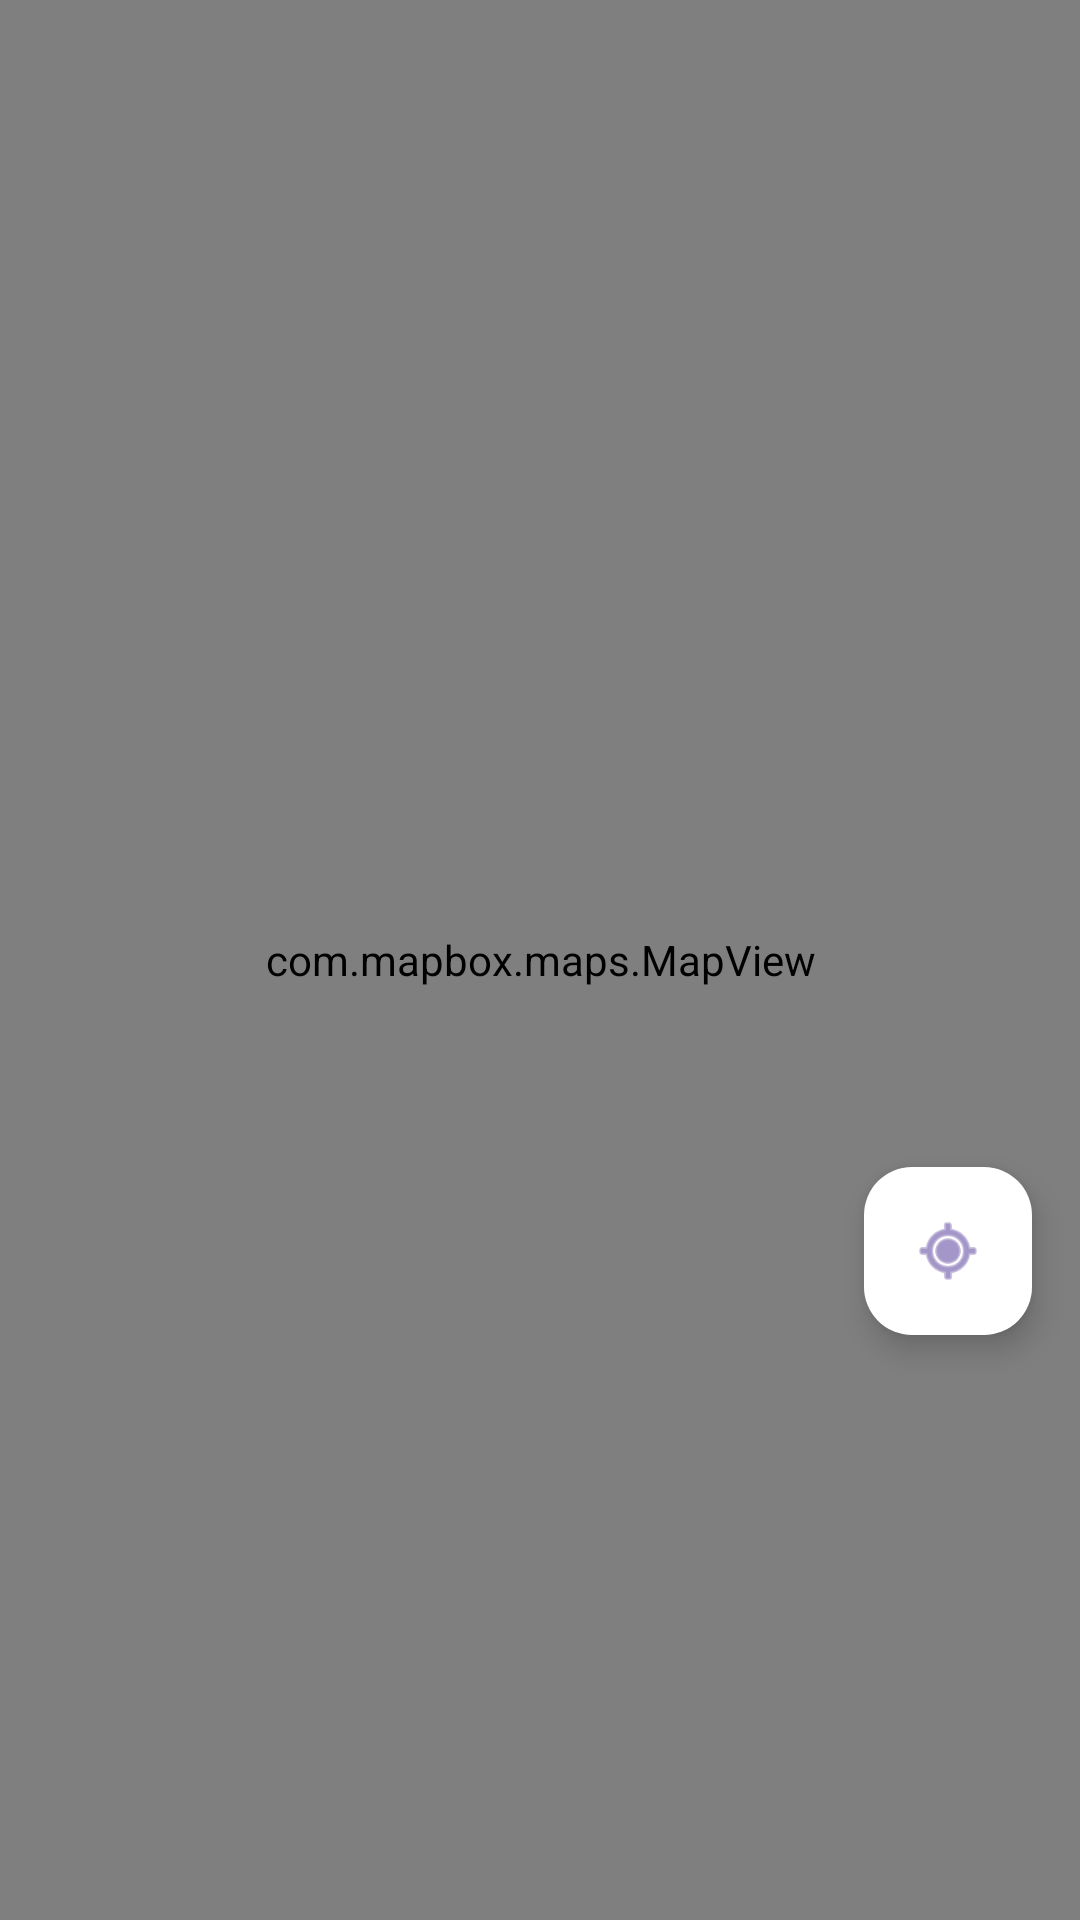

Icon click points for this 1080 x 1920 phone screenshot, format (x=x, y=y):
mylocation: (x=948, y=1251)
